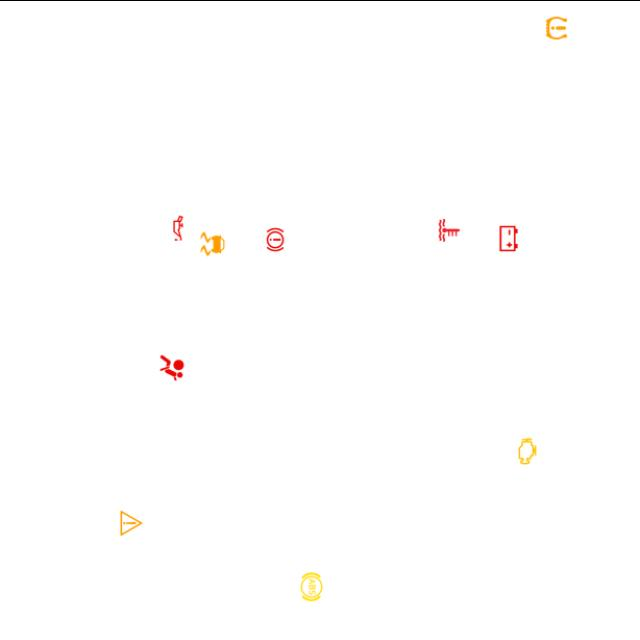Anti Lock Braking System: (296, 570, 328, 602)
Braking System Issue: (259, 222, 291, 255)
Charging System Issue: (492, 222, 524, 254)
Check Engine: (512, 434, 544, 466)
Electronic Stability Problem -ESP-: (196, 227, 228, 259)
Engine Overheating Warning Light: (434, 213, 466, 246)
Low Engine Oil Warning Light: (162, 211, 194, 243)
Low Tire Pressure Warning Light: (540, 11, 572, 43)
Master warning light: (116, 506, 148, 538)
SRS-Airbag: (156, 351, 188, 383)
